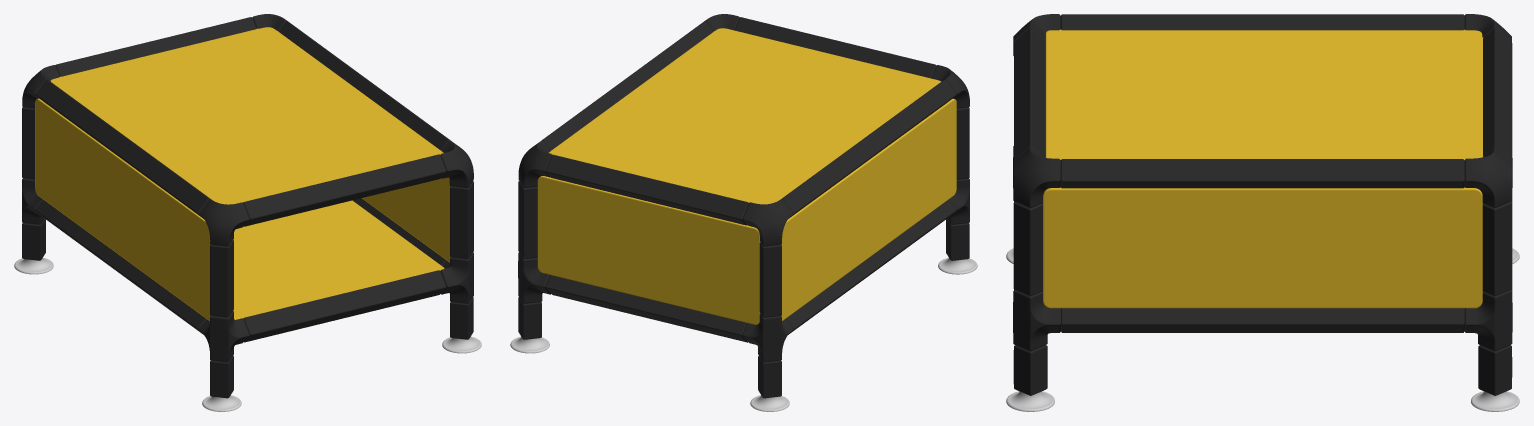
3 views of the same model, side by side, from view 1: azimuth 30°, elevation 25°; view 2: azimuth 150°, elevation 25°; view 3: azimuth 270°, elevation 25° (orthographic). The views are drawn at different scales.
Parts seen in each view (by area): view 1: 229x329x79; view 2: 229x329x79; view 3: 229x329x79.
Boxes of the visible parts, bbox=[...] form: 229x329x79: bbox=[14, 14, 481, 411]; 229x329x79: bbox=[510, 14, 977, 411]; 229x329x79: bbox=[1006, 14, 1519, 411].
Bounding box in the file's own units: 0.3189 × 0.2183 × 0.4182.
